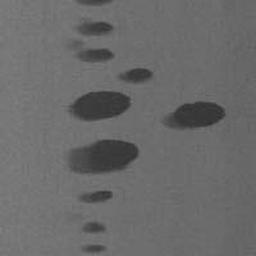Oil spot: (60, 138, 141, 177), (60, 14, 118, 65), (65, 90, 132, 123), (159, 100, 228, 132), (114, 67, 156, 86), (74, 188, 114, 205), (78, 220, 109, 234), (78, 242, 109, 255), (72, 0, 114, 8)
